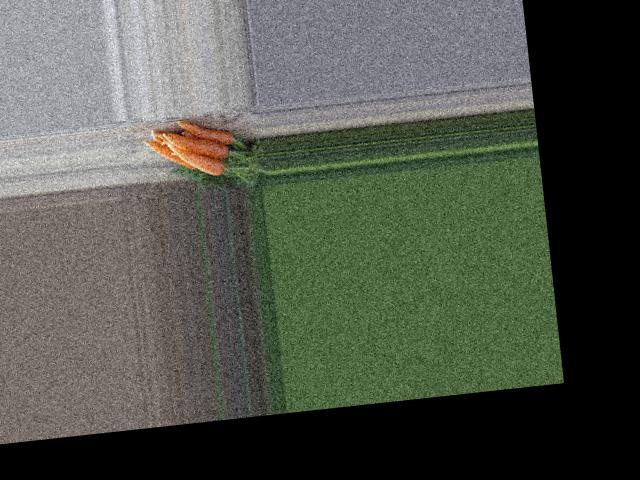carrot: (174, 118, 241, 148)
